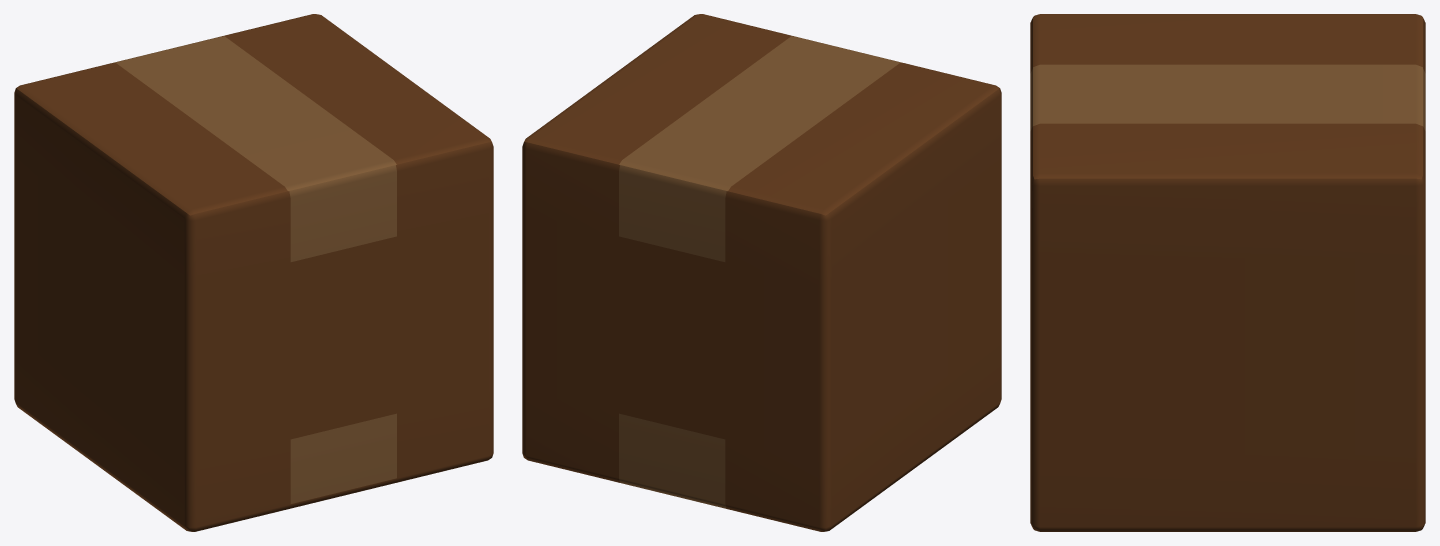
3 renders of one model, left to right at view 1: azimuth 30°, elevation 25°; view 2: azimuth 150°, elevation 25°; view 3: azimuth 270°, elevation 25°, orthographic. The views are drawn at different scales.
Visible parts, largest first — view 1: BoxBody, LidLeft, LidRight; view 2: BoxBody, LidLeft, LidRight; view 3: BoxBody, LidRight, LidLeft.
Boxes of the visible parts, x1,y1,x2,y2 form: BoxBody: [14, 88, 493, 531]; LidLeft: [16, 49, 341, 215]; LidRight: [168, 14, 491, 177]; BoxBody: [522, 88, 1001, 531]; LidLeft: [674, 49, 999, 215]; LidRight: [524, 14, 847, 177]; BoxBody: [1030, 18, 1425, 531]; LidRight: [1033, 93, 1422, 179]; LidLeft: [1033, 14, 1422, 96].
Size of the model in its own units: 0.1995 by 0.1995 by 0.1995.
